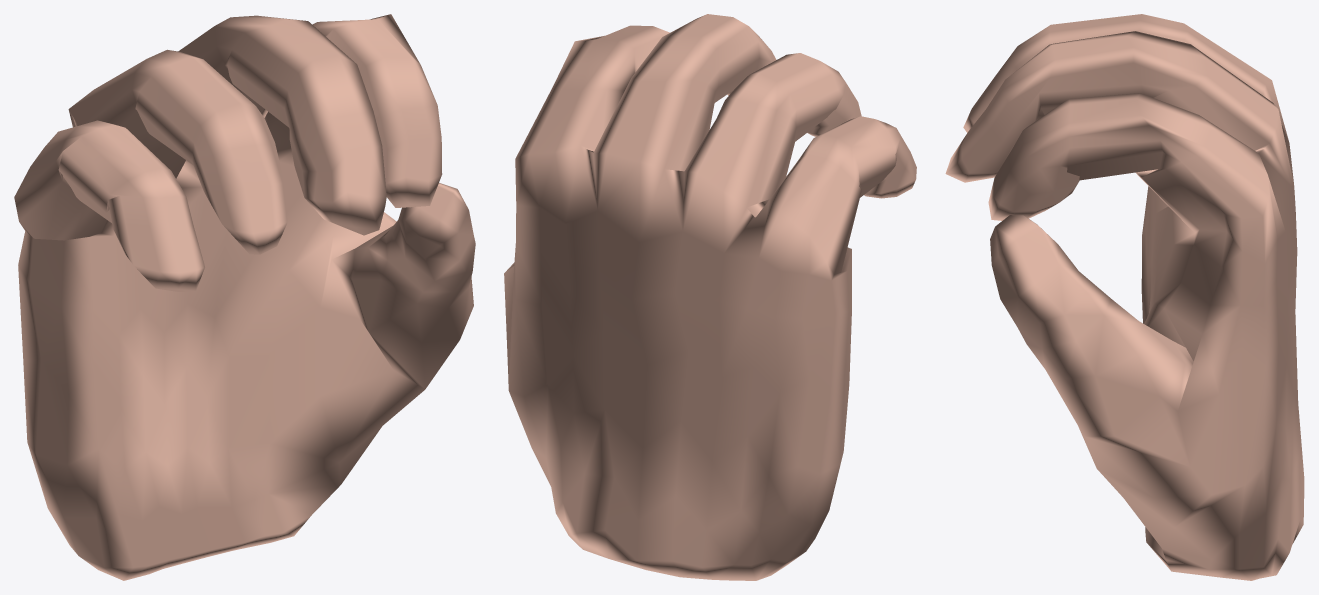
File: MAO_O.obj
3 renders of one model, left to right at view 1: azimuth 30°, elevation 25°; view 2: azimuth 150°, elevation 25°; view 3: azimuth 270°, elevation 25°, orthographic. The views are drawn at different scales.
Visible parts, largest first — view 1: mao_dir:mao_dir; view 2: mao_dir:mao_dir; view 3: mao_dir:mao_dir.
Part boxes in pixels (x1,y1,x2,y2): mao_dir:mao_dir: (14,14,475,580); mao_dir:mao_dir: (504,14,916,580); mao_dir:mao_dir: (945,14,1304,580).
Bounding box in the file's own units: 133 × 171 × 108.
